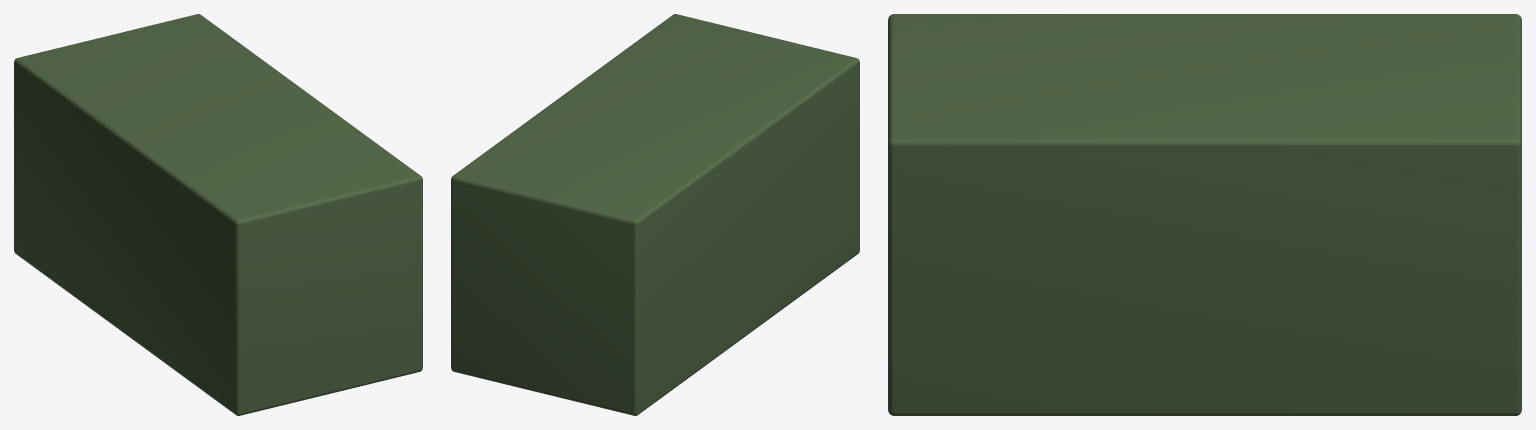
The model's file is tile_base.glb.
3 renders of one model, left to right at view 1: azimuth 30°, elevation 25°; view 2: azimuth 150°, elevation 25°; view 3: azimuth 270°, elevation 25°, orthographic. The views are drawn at different scales.
Visible parts, largest first — view 1: Cube; view 2: Cube; view 3: Cube.
Part boxes in pixels (left/top/right/bottom): Cube: left=14, top=14, right=422, bottom=415; Cube: left=451, top=14, right=859, bottom=415; Cube: left=888, top=14, right=1521, bottom=415.
Bounding box in the file's own units: 3 × 3 × 6.22.
